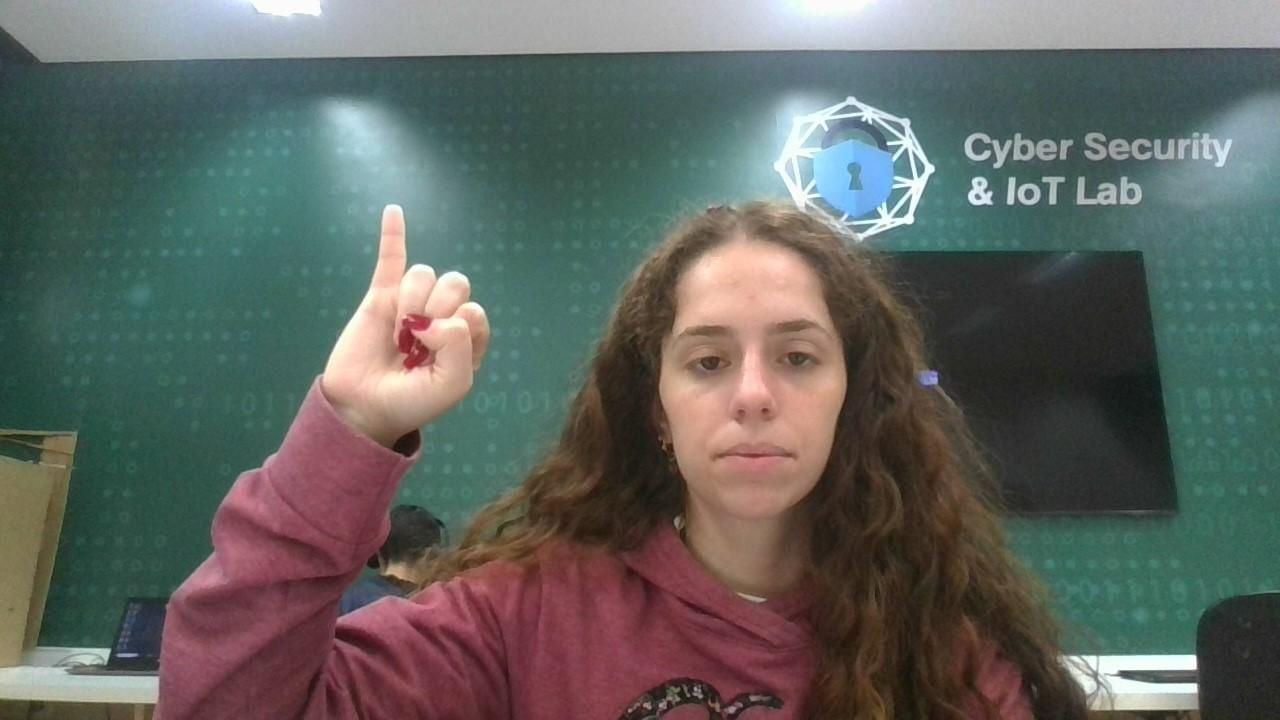I: (322, 192, 505, 440)
